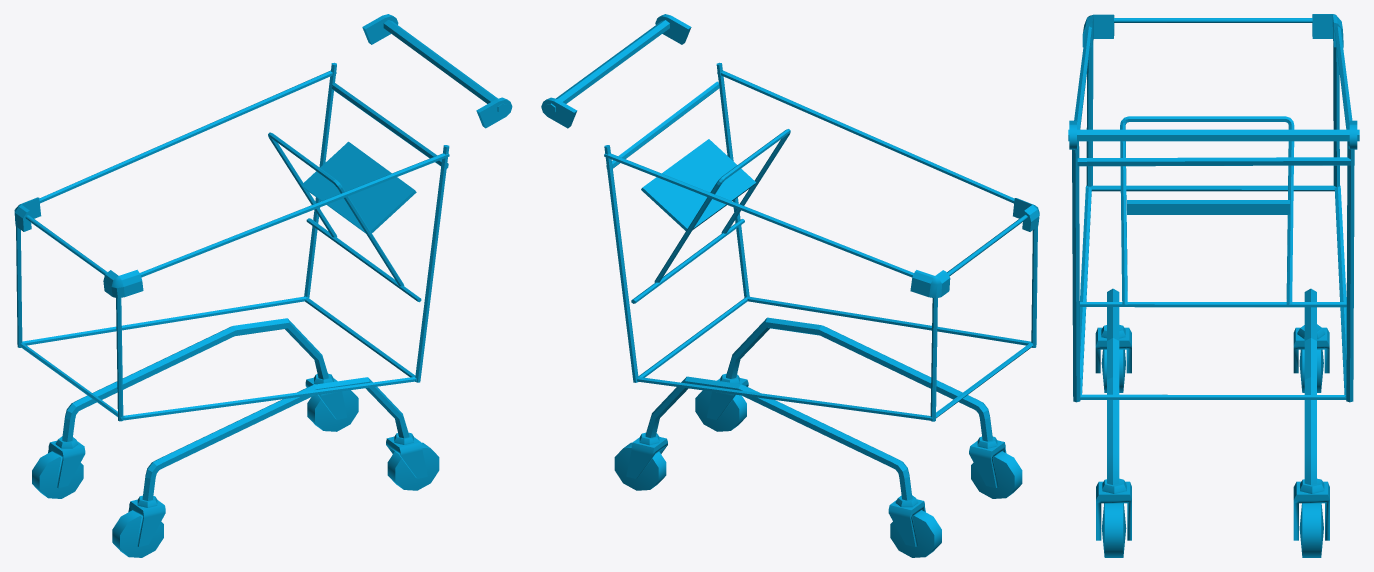
The model's file is Shopping_Cart_02.fbx.
3 renders of one model, left to right at view 1: azimuth 30°, elevation 25°; view 2: azimuth 150°, elevation 25°; view 3: azimuth 270°, elevation 25°, orthographic. The views are drawn at different scales.
Visible parts, largest first — view 1: Shopping_Cart_02; view 2: Shopping_Cart_02; view 3: Shopping_Cart_02.
Boxes of the visible parts, left/top/right/bottom form: Shopping_Cart_02: left=14, top=14, right=512, bottom=557; Shopping_Cart_02: left=541, top=14, right=1039, bottom=557; Shopping_Cart_02: left=1068, top=14, right=1359, bottom=557.
Bounding box in the file's own units: 102 × 95.96 × 53.72.
